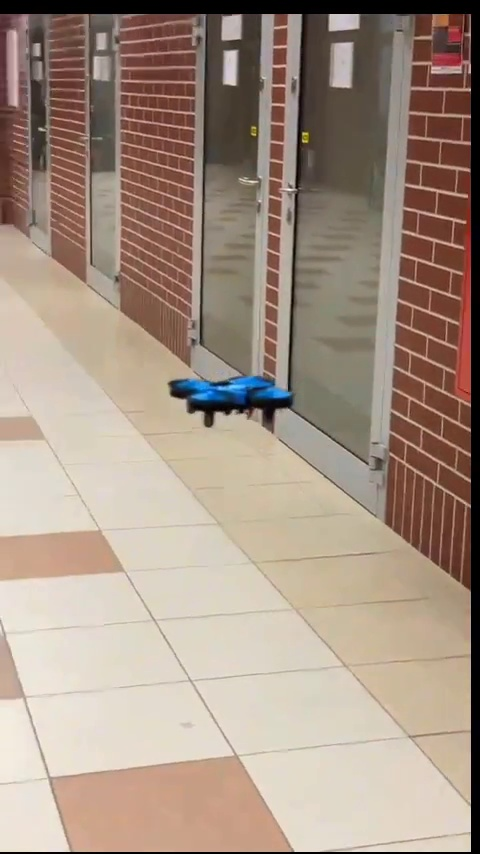drone: (174, 380, 296, 428)
